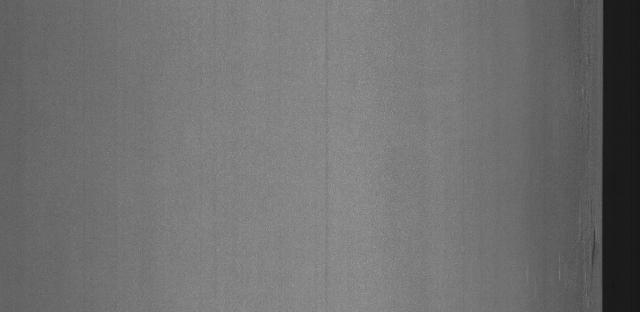silk_spot: (536, 207, 599, 297)
